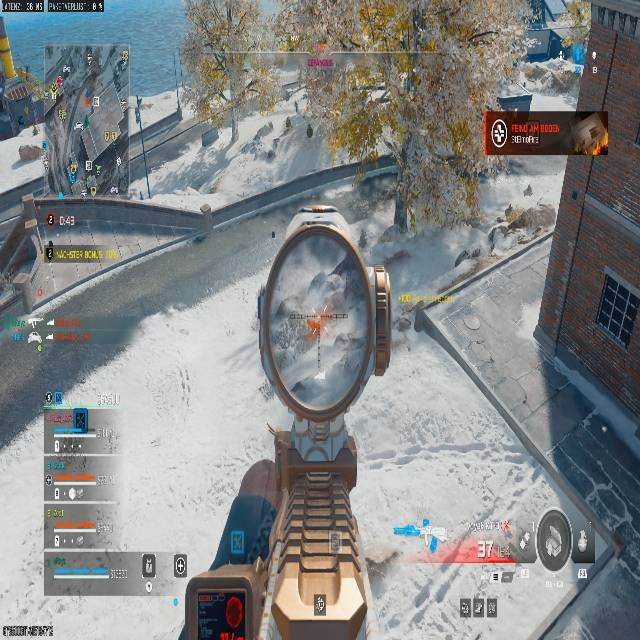player: (393, 306, 413, 352)
